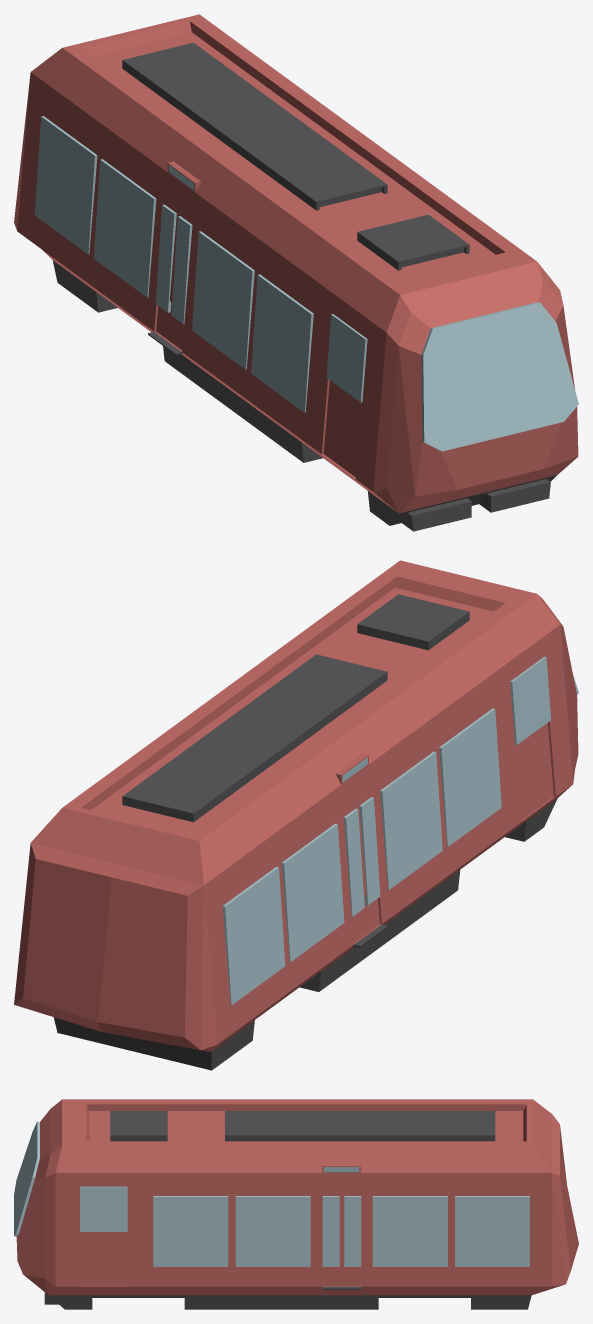
The model's file is Train.glb.
The picture shows the model from 3 angles, top to bottom: view 1: azimuth 30°, elevation 25°; view 2: azimuth 150°, elevation 25°; view 3: azimuth 270°, elevation 25°; orthographic projection. The views are drawn at different scales.
Visible parts, largest first — view 1: Train.obj; view 2: Train.obj; view 3: Train.obj.
Part boxes in pixels (box(x1,y1,x2,y2)): Train.obj: box(14, 14, 578, 531); Train.obj: box(14, 560, 578, 1070); Train.obj: box(14, 1099, 578, 1309).
Bounding box in the file's own units: 2.13 × 2.2 × 7.02.
